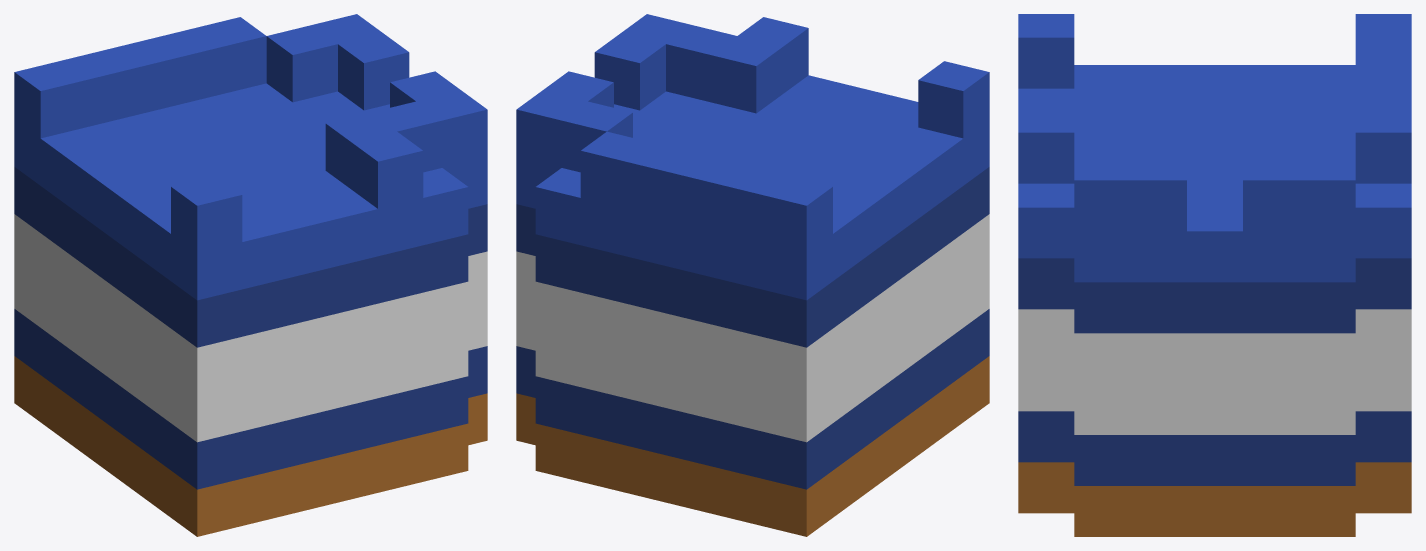
The model's file is FKnightLegUpperL.fbx.
3 views of the same model, side by side, from view 1: azimuth 30°, elevation 25°; view 2: azimuth 150°, elevation 25°; view 3: azimuth 270°, elevation 25° (orthographic). The views are drawn at different scales.
Visible parts, largest first — view 1: FemKnightBody; view 2: FemKnightBody; view 3: FemKnightBody.
Part boxes in pixels (x1,y1,x2,y2): FemKnightBody: (14, 14, 487, 536); FemKnightBody: (516, 14, 989, 536); FemKnightBody: (1018, 14, 1411, 536).
Bounding box in the file's own units: 7 × 7 × 7.
1 material, 1 textured.
